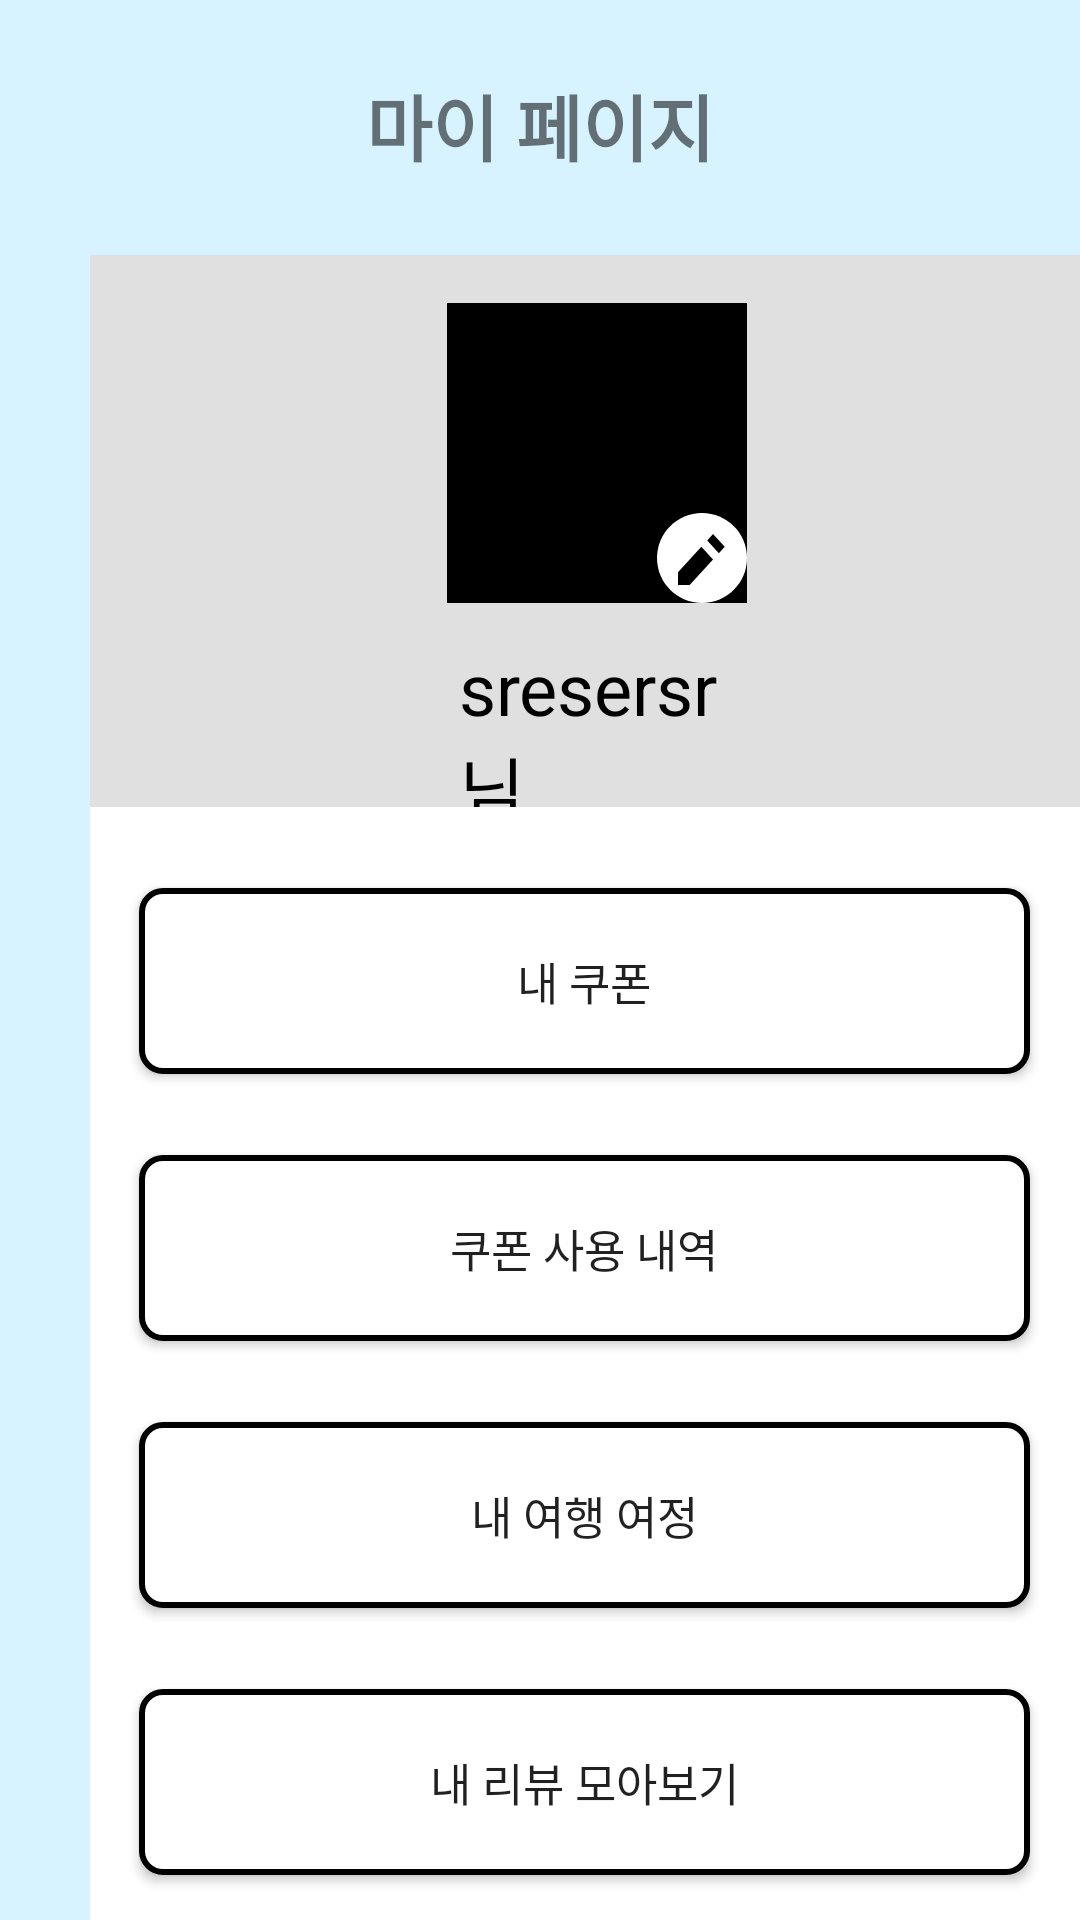

Where to tap for icons on this 1080×1920 app screen, as (x=x, y=y):
modify: (x=702, y=558)
